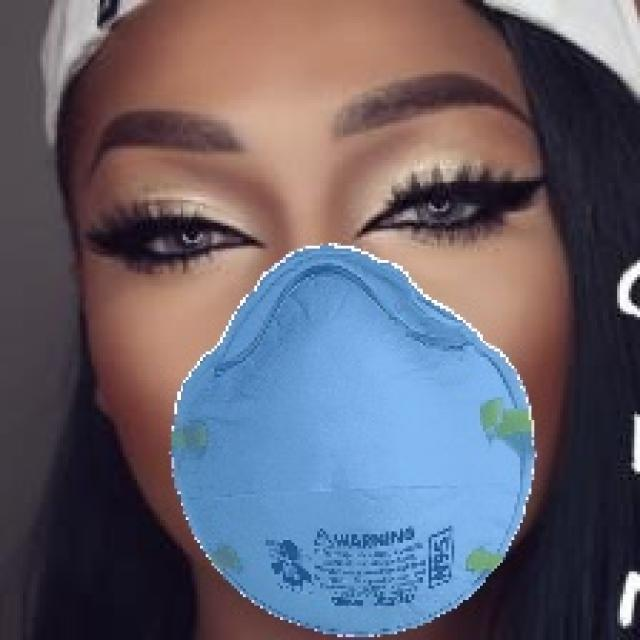mask: (154, 234, 595, 634)
